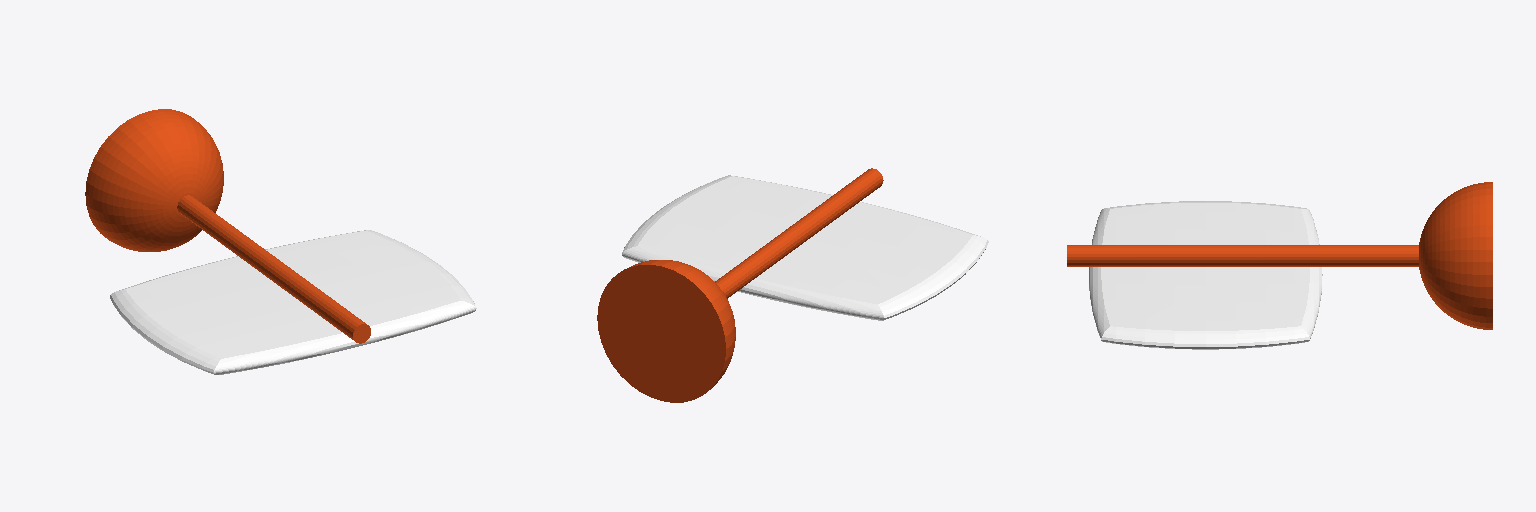
The model's file is tinker.obj.
The picture shows the model from 3 angles: view 1: azimuth 30°, elevation 25°; view 2: azimuth 150°, elevation 25°; view 3: azimuth 270°, elevation 25°; orthographic projection.
Visible parts, largest first — view 1: obj_0; view 2: obj_0; view 3: obj_0.
Part boxes in pixels (x1,y1,x2,y2): obj_0: (85, 109, 476, 374); obj_0: (597, 168, 988, 402); obj_0: (1067, 182, 1492, 349).
Bounding box in the file's own units: 16.01 × 7 × 20.